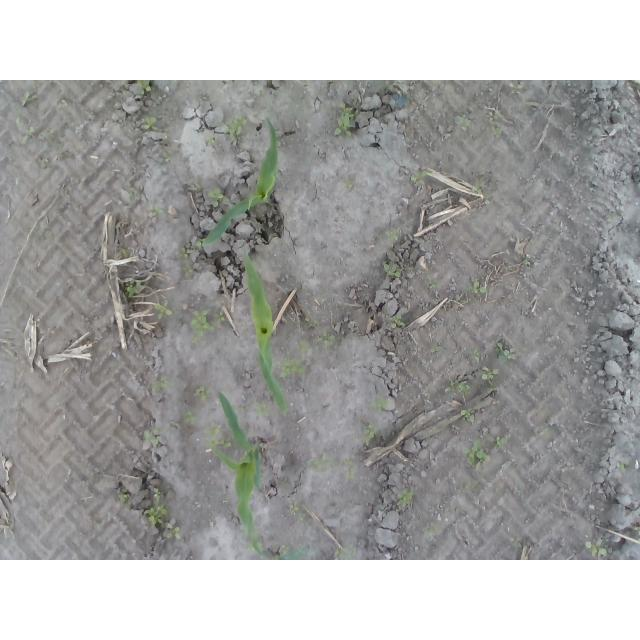Maize: (206, 388, 274, 560), (201, 114, 280, 246), (242, 248, 291, 414)
Weeds: (307, 456, 359, 481), (142, 493, 174, 529), (463, 439, 490, 466), (190, 309, 216, 337), (334, 103, 353, 137), (224, 112, 249, 137), (14, 111, 35, 138), (280, 358, 305, 378), (279, 544, 305, 561), (142, 427, 163, 447), (491, 110, 505, 138), (584, 540, 607, 557), (361, 423, 378, 445), (318, 335, 337, 354), (152, 302, 172, 320), (289, 504, 307, 523), (334, 546, 357, 560), (448, 380, 472, 393), (454, 113, 472, 130), (472, 175, 489, 193), (480, 367, 501, 381), (194, 385, 211, 402), (207, 189, 223, 207), (125, 281, 143, 297), (156, 375, 175, 390), (493, 434, 511, 449), (471, 279, 489, 294), (256, 400, 271, 417), (167, 525, 184, 540), (383, 263, 401, 277), (370, 399, 389, 412), (496, 344, 511, 360), (182, 409, 197, 425), (508, 82, 523, 97), (399, 489, 414, 504), (295, 338, 310, 352), (391, 315, 405, 329), (137, 80, 153, 92), (175, 246, 189, 259), (115, 246, 130, 258), (116, 489, 128, 504), (163, 146, 173, 163), (144, 115, 156, 129), (385, 229, 399, 240), (151, 207, 165, 218), (214, 310, 226, 322), (210, 424, 222, 436), (461, 408, 472, 421), (20, 90, 29, 104), (222, 439, 233, 450), (430, 279, 442, 289), (195, 238, 205, 247), (127, 192, 137, 201), (633, 526, 640, 538), (619, 463, 628, 472), (473, 352, 482, 361), (206, 136, 215, 145), (343, 180, 353, 188), (420, 171, 433, 177), (183, 266, 194, 273), (191, 183, 198, 193), (431, 346, 441, 353), (411, 177, 418, 184)
